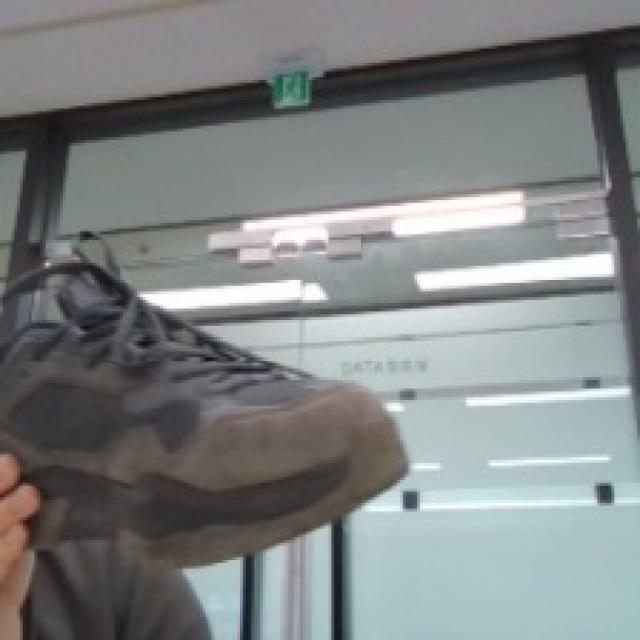shoe: (0, 229, 430, 569)
